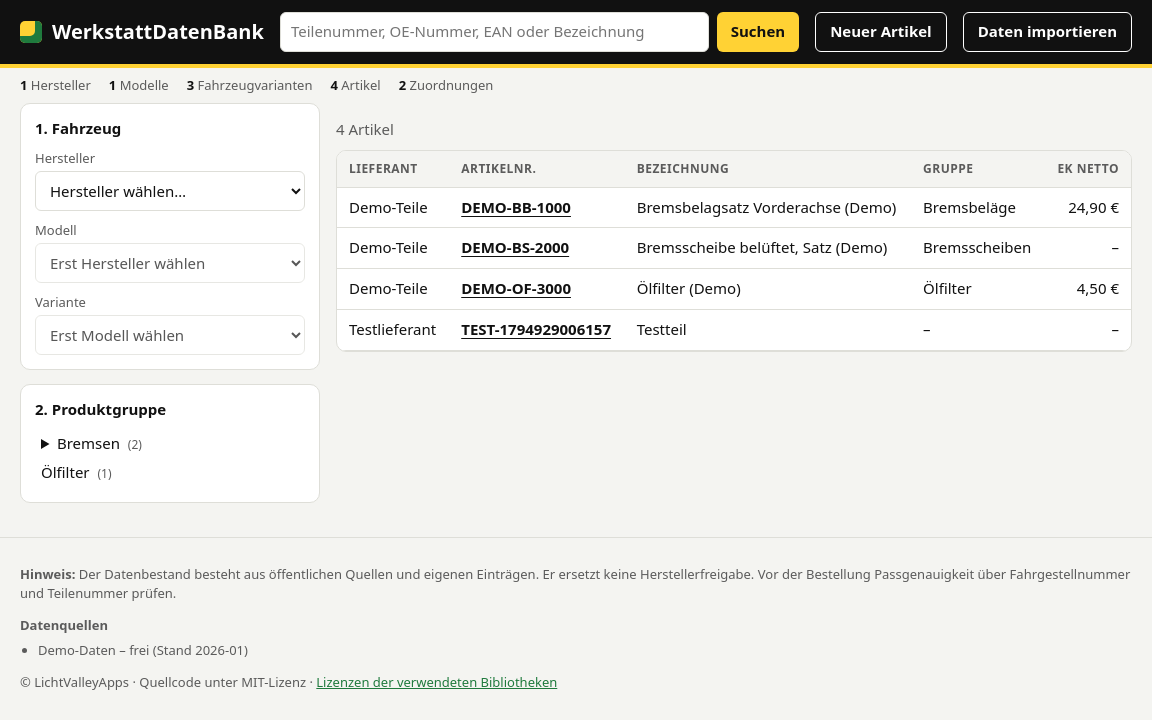
Test: WerkstattDatenBank › Daten importieren (Testdaten) › lädt und entfernt Beispieldaten
This screenshot has width=1152, height=720.
Click the button "Daten importieren": (1047, 32) top-left (963, 12), bottom-right (1132, 52)
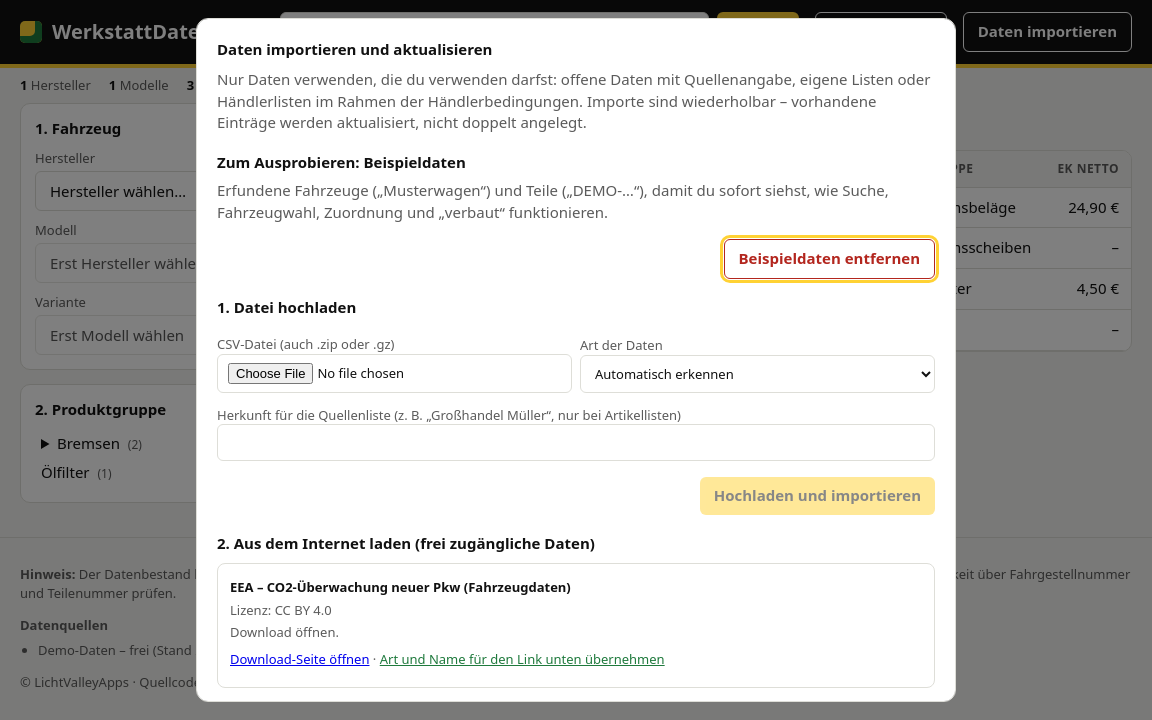
Check: the dialog with class "import" is shown
Click the button "Beispieldaten entfernen": (829, 259) top-left (724, 239), bottom-right (935, 279)
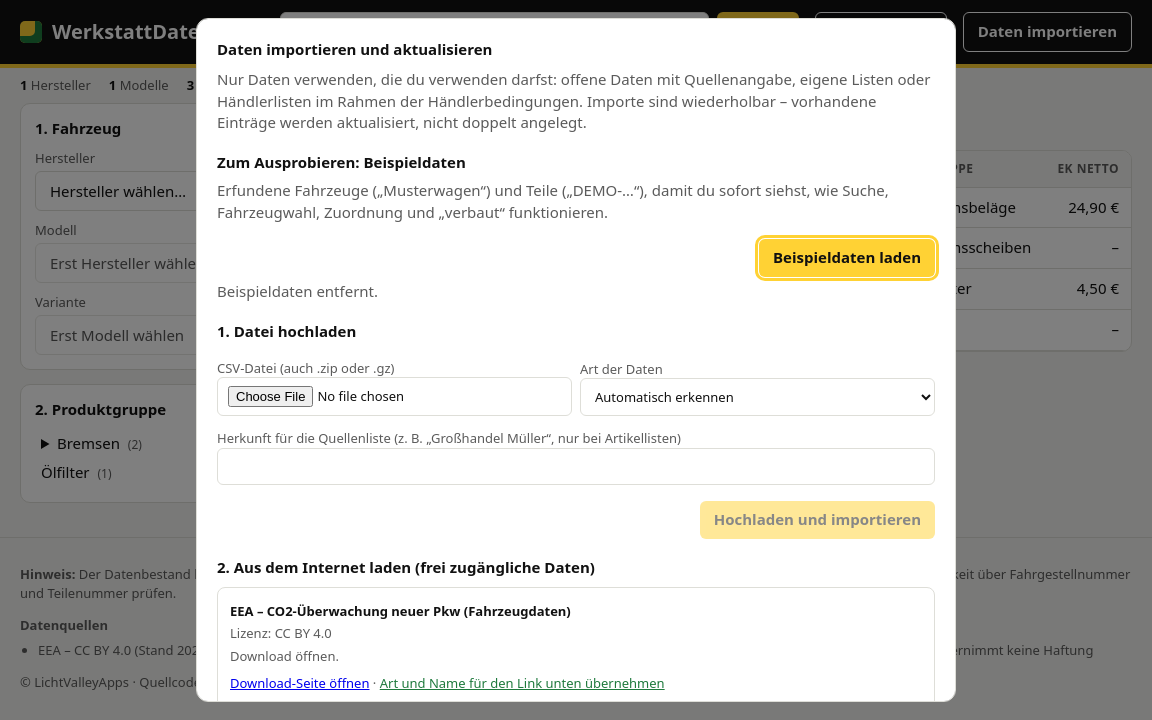
Click the button "Beispieldaten laden": (847, 258) top-left (759, 239), bottom-right (935, 277)
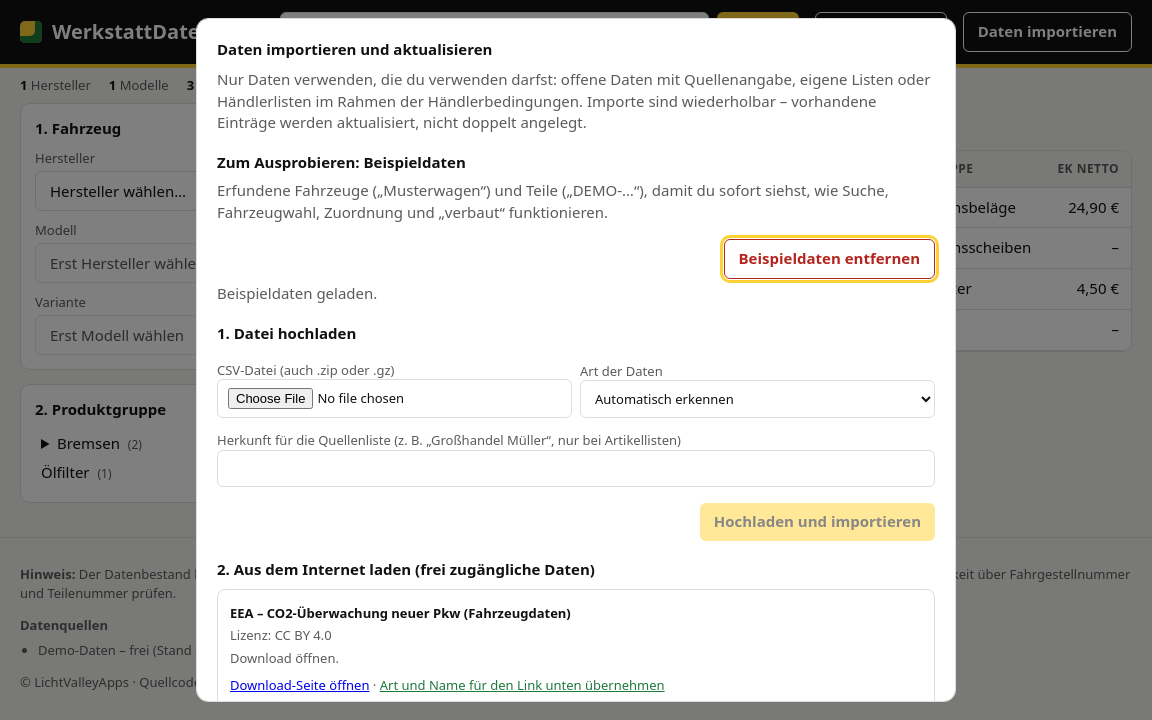
Check: the text "Beispieldaten geladen." is shown, box top-left (217, 283), bottom-right (377, 303)
Check: the button "Beispieldaten entfernen" is shown, box top-left (724, 239), bottom-right (935, 279)
